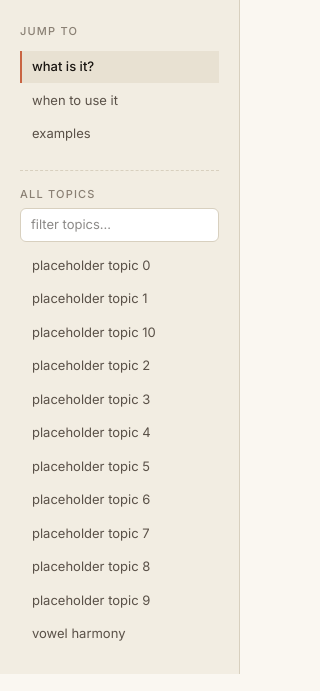
Scenario: TheoryToc › other-topics filter (long lists) › narrows the other-topics list as the user types
Type "harmony" into the search field labelled "filter topics…" at (120, 225), box [20,208,219,242]
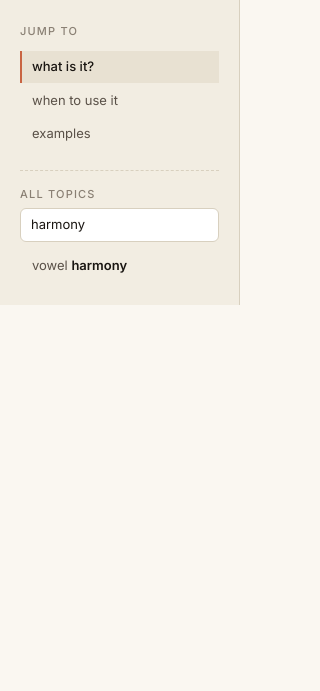
Expected: the button "vowel harmony" is shown, [20,250,219,281]
Result: the button "placeholder topic 3" is gone
